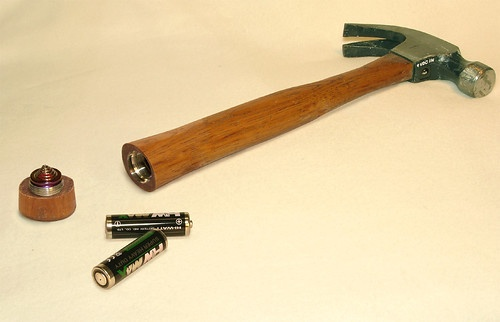hammer: (118, 15, 497, 193)
